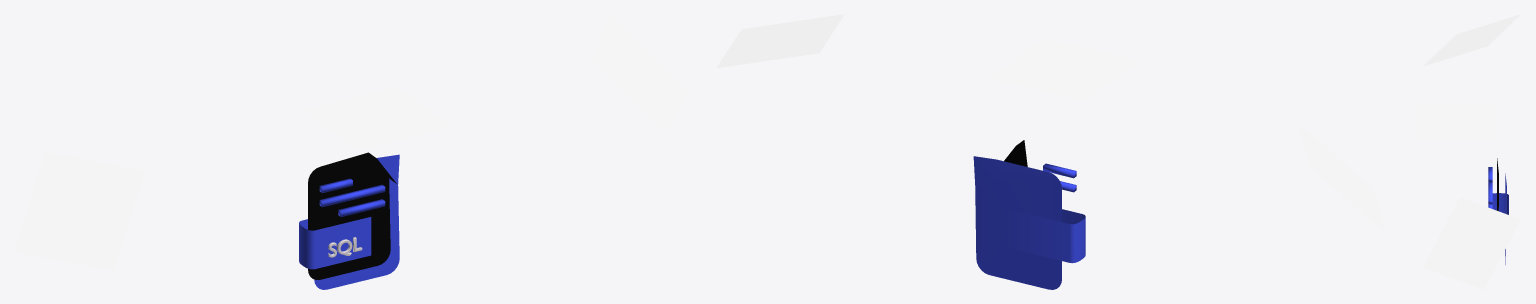
File: sql.glb
3 renders of one model, left to right at view 1: azimuth 30°, elevation 25°; view 2: azimuth 150°, elevation 25°; view 3: azimuth 270°, elevation 25°, orthographic. The views are drawn at different scales.
Visible parts, largest first — view 1: Plane.009, Cube.011, Plane, Plane.002, Plane.001, Cube.012, Cube.013; view 2: Cube.012, Plane, Plane.002, Plane.001, Plane.009; view 3: Plane.002, Plane, Plane.009, Plane.001, Cube.013, Cube.011, Cube.012.
Boxes of the visible parts, left/top/right/bottom form: Plane.009: left=14, top=152, right=144, bottom=270; Cube.011: left=308, top=152, right=397, bottom=279; Plane: left=304, top=87, right=452, bottom=150; Plane.002: left=591, top=14, right=687, bottom=134; Plane.001: left=299, top=217, right=371, bottom=269; Cube.012: left=314, top=154, right=399, bottom=289; Cube.013: left=319, top=184, right=385, bottom=207; Cube.012: left=973, top=156, right=1061, bottom=289; Plane: left=990, top=38, right=1138, bottom=101; Plane.002: left=716, top=14, right=844, bottom=68; Plane.001: left=1006, top=209, right=1085, bottom=263; Plane.009: left=1297, top=122, right=1386, bottom=233; Plane.002: left=1422, top=197, right=1520, bottom=289; Plane: left=1415, top=105, right=1496, bottom=139; Plane.009: left=1422, top=14, right=1520, bottom=66; Plane.001: left=1492, top=193, right=1508, bottom=214; Cube.013: left=1488, top=182, right=1492, bottom=204; Cube.011: left=1497, top=158, right=1498, bottom=210; Cube.012: left=1505, top=173, right=1506, bottom=264.
Bounding box in the file's own units: 11.62 × 3.23 × 2.14.
